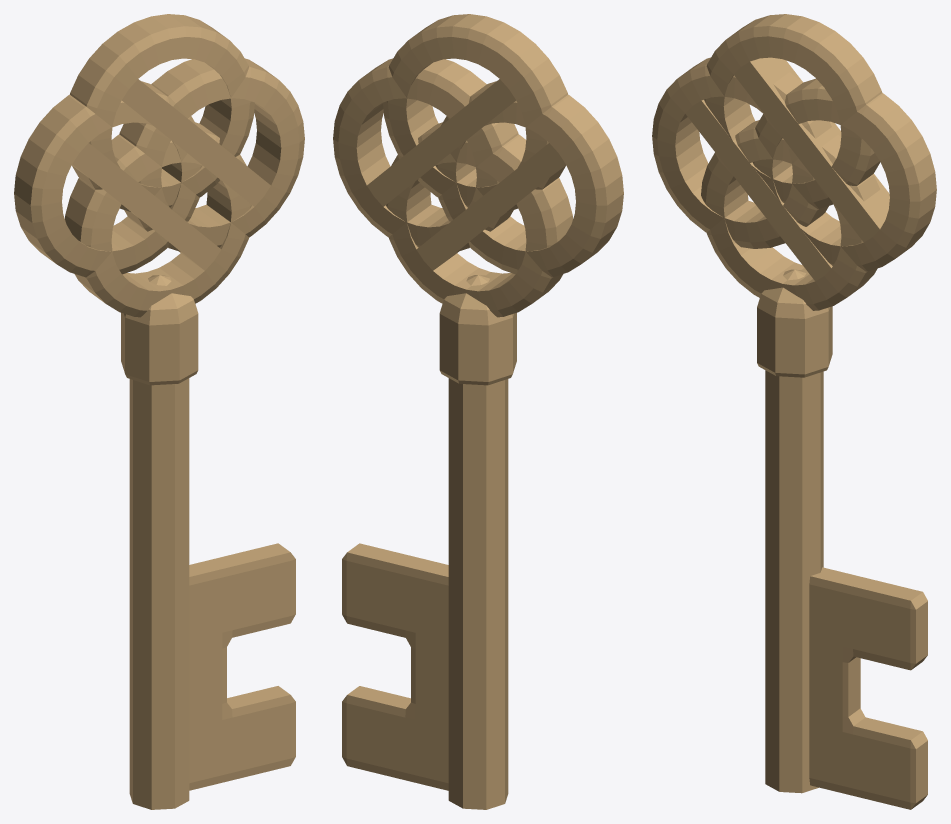
Rendered from theme02_key07.fbx.
The picture shows the model from 3 angles, left to right: view 1: azimuth 30°, elevation 25°; view 2: azimuth 150°, elevation 25°; view 3: azimuth 330°, elevation 25°; orthographic projection. The views are drawn at different scales.
Visible parts, largest first — view 1: key07head.002; view 2: key07head.002; view 3: key07head.002.
Boxes of the visible parts, x1,y1,x2,y2 form: key07head.002: [14, 14, 304, 809]; key07head.002: [333, 14, 623, 809]; key07head.002: [652, 14, 936, 809].
Size of the model in its own units: 11.8 by 31.86 by 2.98.
